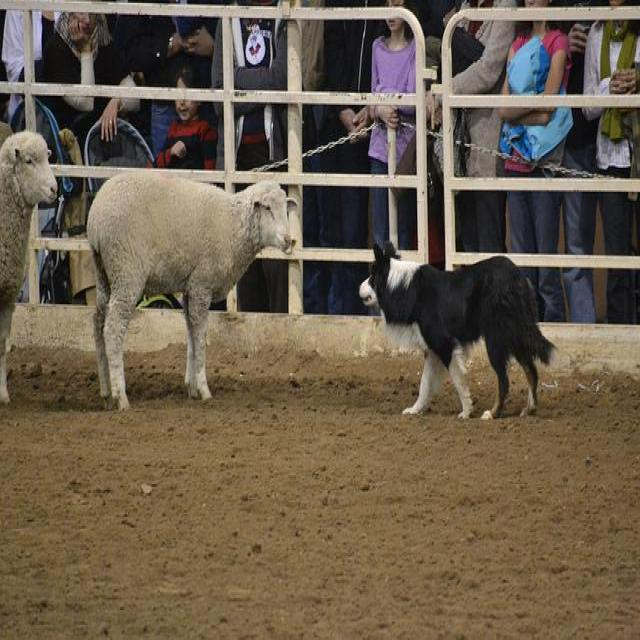Sheep: (85, 174, 298, 414), (0, 134, 59, 400)
